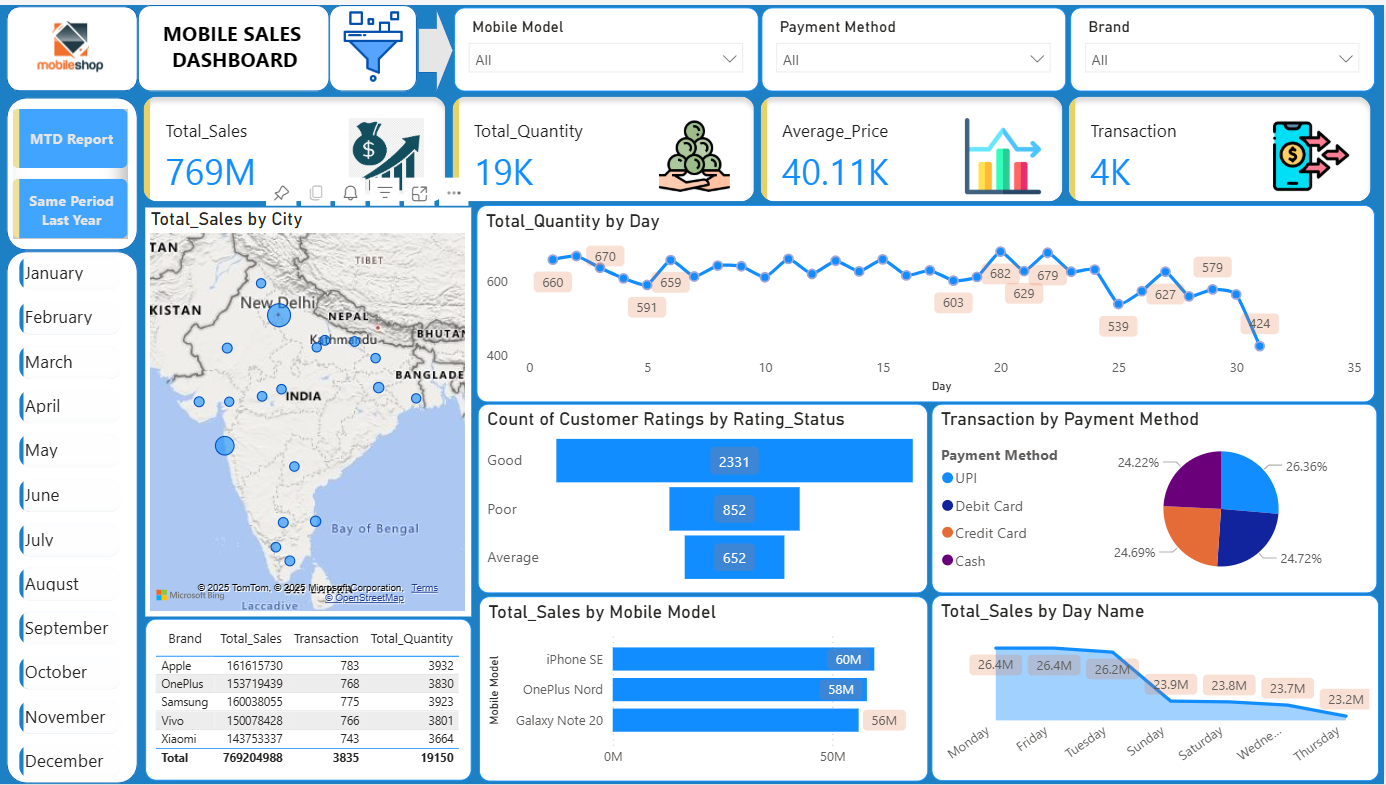

What the dashboard file says about the page in this screenshot:
{"tool":"powerbi","page":{"name":"Dashboard","canvas":[1280,720],"ordinal":0},"visuals":[{"type":"shape","box":[6.7,1.3,121.3,78.7],"z":0},{"type":"image","box":[13.3,8,104,61.3],"z":1000},{"type":"shape","box":[6.7,85.3,121.3,141.3],"z":2000},{"type":"shape","box":[6.7,228,121.3,492],"z":3000},{"type":"advancedSlicerVisual","fields":{"Values":["Custom Calender.Date.Variation.Date Hierarchy.Month"]},"box":[13.3,228,104,492],"z":4000},{"type":"cardVisual","fields":{"Data":["Sales_Data.Total_Sales","Sales_Data.Total_Quantity","Sales_Data.Average_Price","Sales_Data.Transaction"]},"box":[125.3,80,1154.7,109.3],"z":5000},{"type":"slicer","fields":{"Values":["Sales_Data.Mobile Model"]},"box":[420,2.7,281.3,77.3],"z":6000},{"type":"slicer","fields":{"Values":["Sales_Data.Payment Method"]},"box":[705.3,2.7,281.3,77.3],"z":7000},{"type":"slicer","fields":{"Values":["Sales_Data.Brand"]},"box":[990.7,2.7,281.3,77.3],"z":8000},{"type":"shape","box":[305.3,0,81.3,80],"z":9000},{"type":"image","box":[305.3,0,81.3,77.3],"z":10000},{"type":"shape","box":[386.7,0,33.3,84],"z":11000},{"type":"shape","box":[128,0,177.3,80],"z":12000},{"type":"textbox","box":[138.7,8,158.7,62.7],"z":13000},{"type":"lineChart","fields":{"Category":["Custom Calender.Date.Variation.Date Hierarchy.Month","Custom Calender.Date.Variation.Date Hierarchy.Day"],"Y":["Sales_Data.Total_Quantity"]},"box":[441.9,184.9,830.2,182.6],"z":14000},{"type":"funnel","fields":{"Y":["CountNonNull(Sales_Data.Customer Ratings)"],"Category":["Sales_Data.Rating_Status"]},"box":[443,368.6,416.3,175.6],"z":15000},{"type":"pieChart","fields":{"Category":["Sales_Data.Payment Method"],"Y":["Sales_Data.Transaction"]},"box":[861.6,368.6,411.6,175.6],"z":16000},{"type":"clusteredBarChart","fields":{"Y":["Sales_Data.Total_Sales"],"Category":["Sales_Data.Mobile Model"]},"box":[444.2,546.5,415.1,170.9],"z":17000},{"type":"areaChart","fields":{"Y":["Sales_Data.Total_Sales"],"Category":["Custom Calender.Day Name"]},"box":[861.6,545.4,414,172.1],"z":18000},{"type":"tableEx","fields":{"Values":["Sales_Data.Brand","Sales_Data.Total_Sales","Sales_Data.Transaction","Sales_Data.Total_Quantity"]},"box":[135,566.9,301.8,149.7],"z":19000},{"type":"map","fields":{"Category":["Sales_Data.City"],"Size":["Sales_Data.Total_Sales"]},"box":[135,187.7,300.6,377.9],"z":20000},{"type":"pageNavigator","box":[12.3,95.7,106.7,120.2],"z":20001}]}

Visuals, with their boxes in screenshot pixels (x1, y1, x2, y2), scaled from the page's 1280x720 canvas onto the 1386x785 screenshot:
shape: box(7, 1, 139, 87)
image: box(14, 9, 127, 76)
shape: box(7, 93, 139, 247)
shape: box(7, 249, 139, 784)
advancedSlicerVisual - Custom Calender.Date.Variation.Date Hierarchy.Month: box(14, 249, 127, 784)
cardVisual - Sales_Data.Total_Sales x Sales_Data.Total_Quantity: box(136, 87, 1385, 206)
slicer - Sales_Data.Mobile Model: box(455, 3, 759, 87)
slicer - Sales_Data.Payment Method: box(764, 3, 1068, 87)
slicer - Sales_Data.Brand: box(1073, 3, 1377, 87)
shape: box(331, 0, 419, 87)
image: box(331, 0, 419, 84)
shape: box(419, 0, 455, 92)
shape: box(139, 0, 331, 87)
textbox: box(150, 9, 322, 77)
lineChart - Custom Calender.Date.Variation.Date Hierarchy.Month x Custom Calender.Date.Variation.Date Hierarchy.Day: box(478, 202, 1377, 401)
funnel - CountNonNull(Sales_Data.Customer Ratings) x Sales_Data.Rating_Status: box(480, 402, 930, 593)
pieChart - Sales_Data.Payment Method x Sales_Data.Transaction: box(933, 402, 1379, 593)
clusteredBarChart - Sales_Data.Total_Sales x Sales_Data.Mobile Model: box(481, 596, 930, 782)
areaChart - Sales_Data.Total_Sales x Custom Calender.Day Name: box(933, 595, 1381, 782)
tableEx - Sales_Data.Brand x Sales_Data.Total_Sales: box(146, 618, 473, 781)
map - Sales_Data.City x Sales_Data.Total_Sales: box(146, 205, 472, 617)
pageNavigator: box(13, 104, 129, 235)
